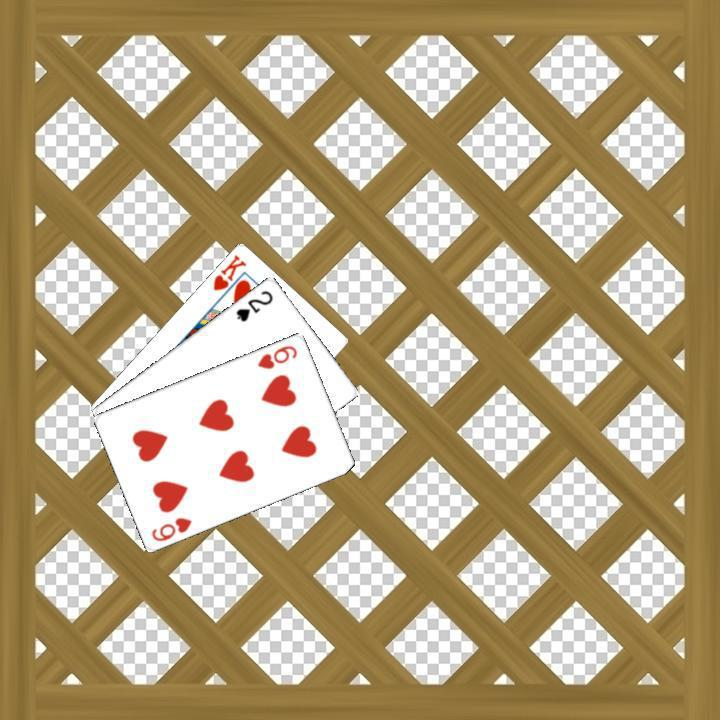2: (232, 285, 275, 323)
6: (147, 512, 194, 543), (253, 341, 299, 371)
K: (208, 250, 248, 293)
